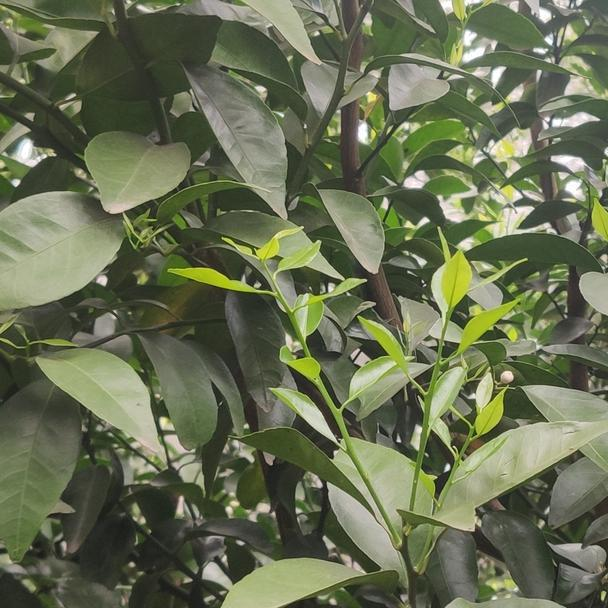shoot: (188, 232, 393, 440), (381, 232, 524, 419), (435, 385, 515, 491)
